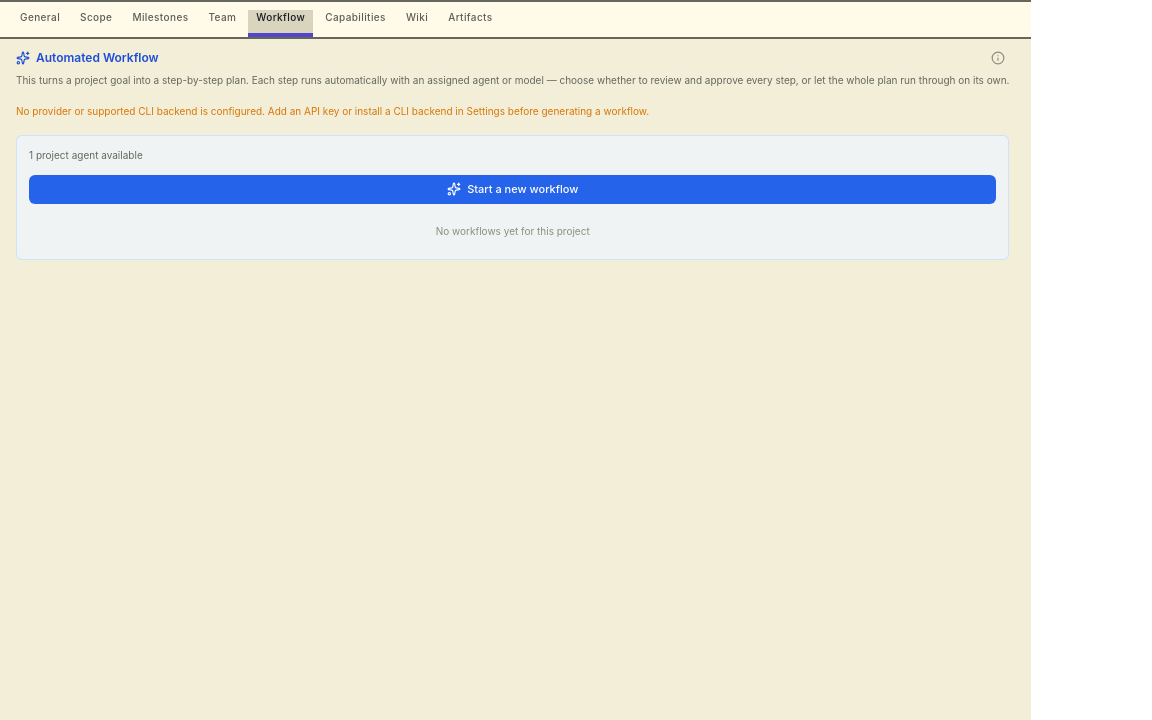
Scenario: ProjectSettingsPanel — automated workflow mode › shows backend availability warning when automated mode has no configured backend
The image size is (1152, 720).
Expected: the text "No provider or supported CLI backend is configured" is shown, [16,105,649,117]
What coordinates should you click on to do the following:
click the button "Start a new workflow"
I would click on:
 (513, 189)
Its box is [29,175,996,204].
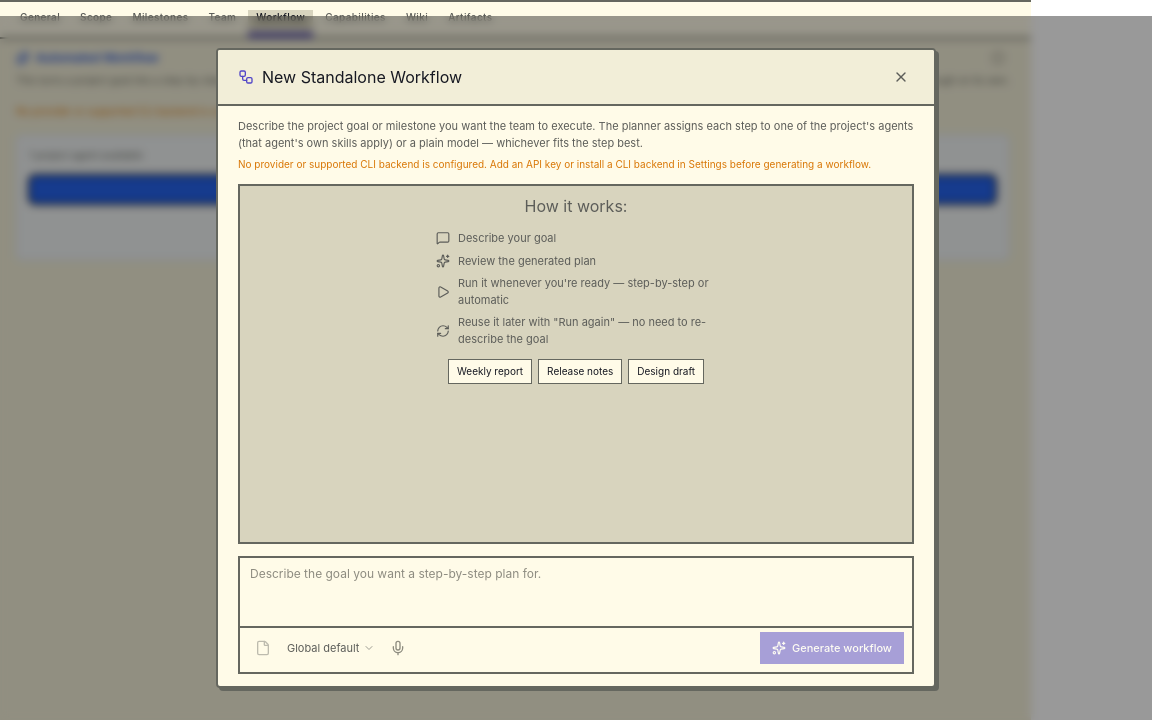
Expected: the button "Generate workflow" is disabled, [760,632,904,664]
